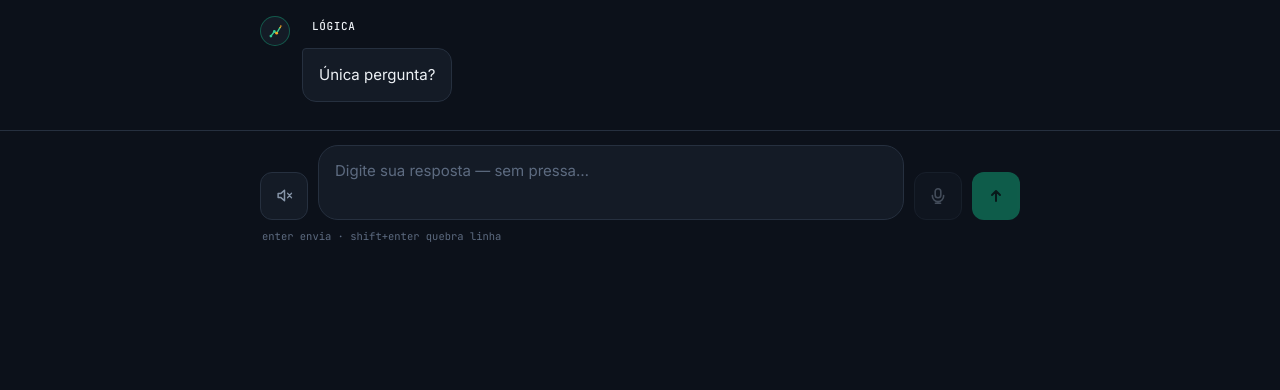
InterviewPage — send() › sucesso com a última pergunta finaliza a entrevista
Expected: the text "Única pergunta?" is shown, 302,48 -> 452,102
Type "resposta final" into the text box labelled "sua resposta" at (611,182), box 318,145 -> 904,220
Then press Enter
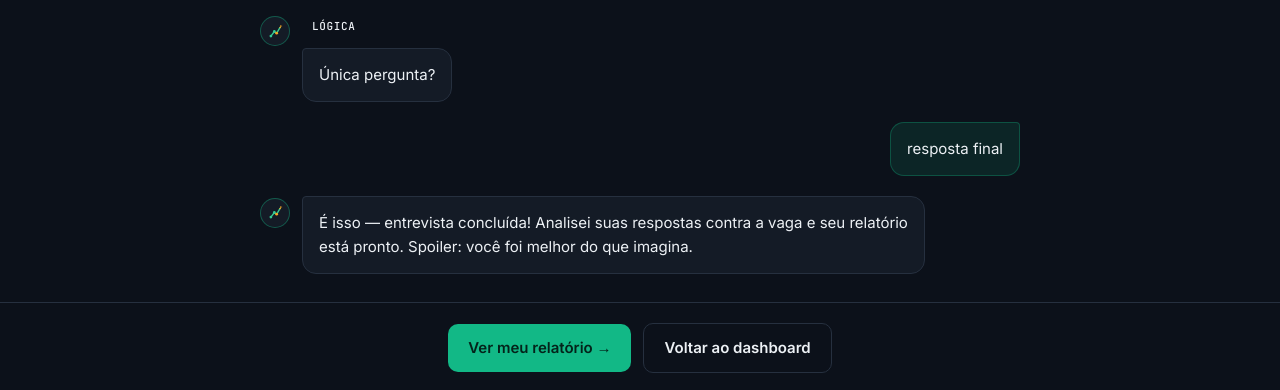
Now the text "entrevista concluída" is shown, box 319,213 -> 908,256
Now the text "resposta final" is shown, box 890,122 -> 1020,176
